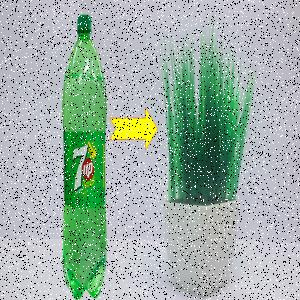Plastic-bottle: (64, 14, 109, 300)
